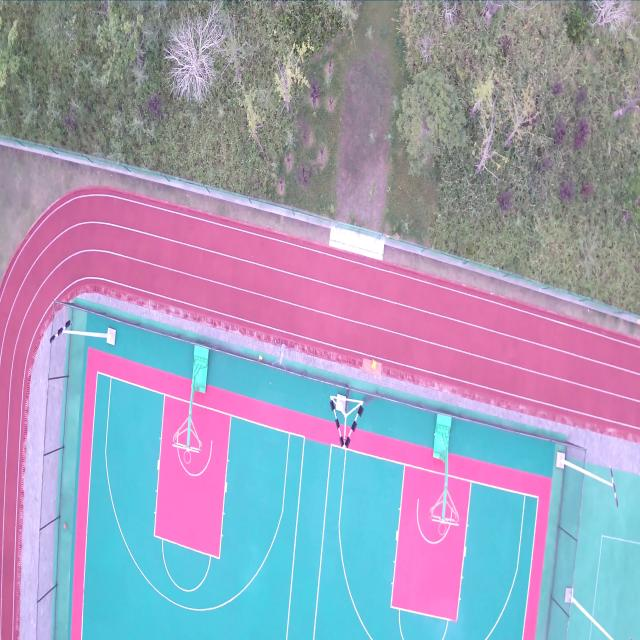UAV: (271, 338, 292, 374)
